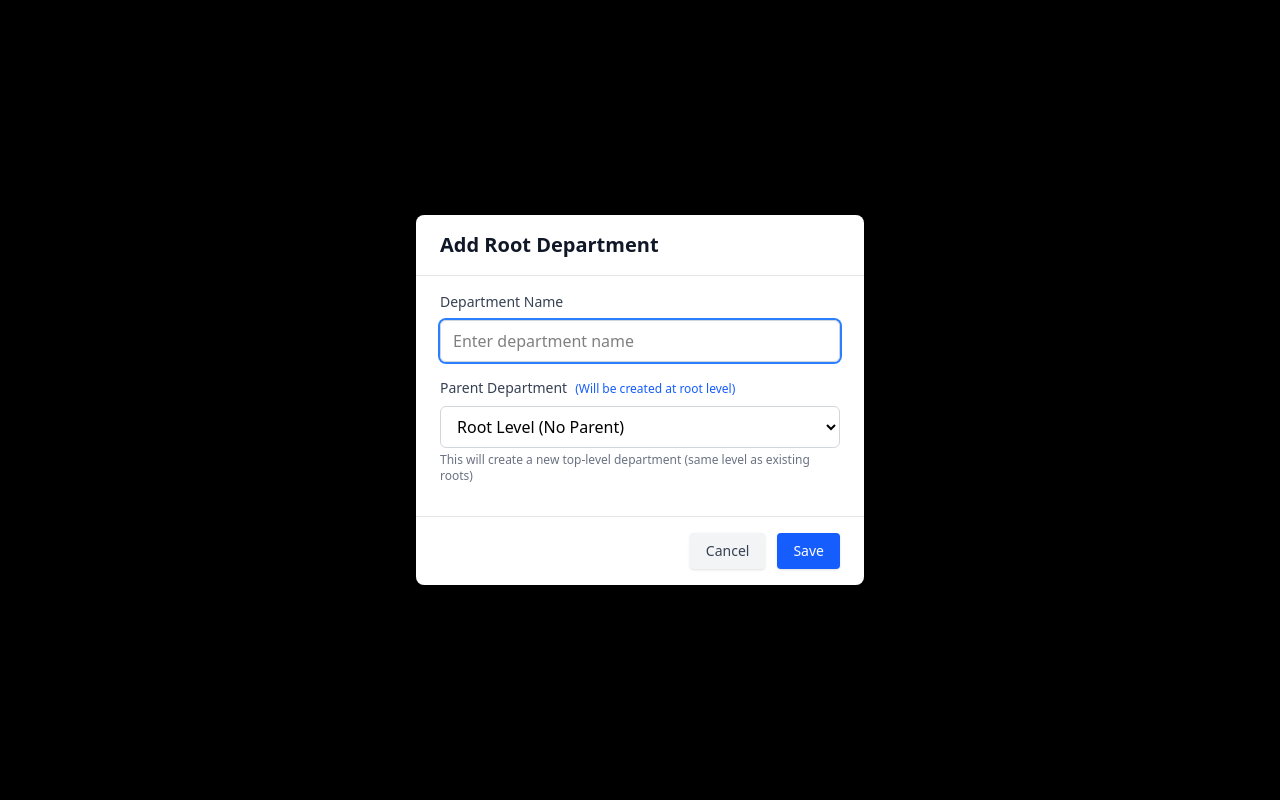
DepartmentManagementModal › validation › should clear error when form is resubmitted with valid data
The width and height of the screenshot is (1280, 800).
# Submit form programmatically to show error
Submit the form named "save", box [416,276,864,585]
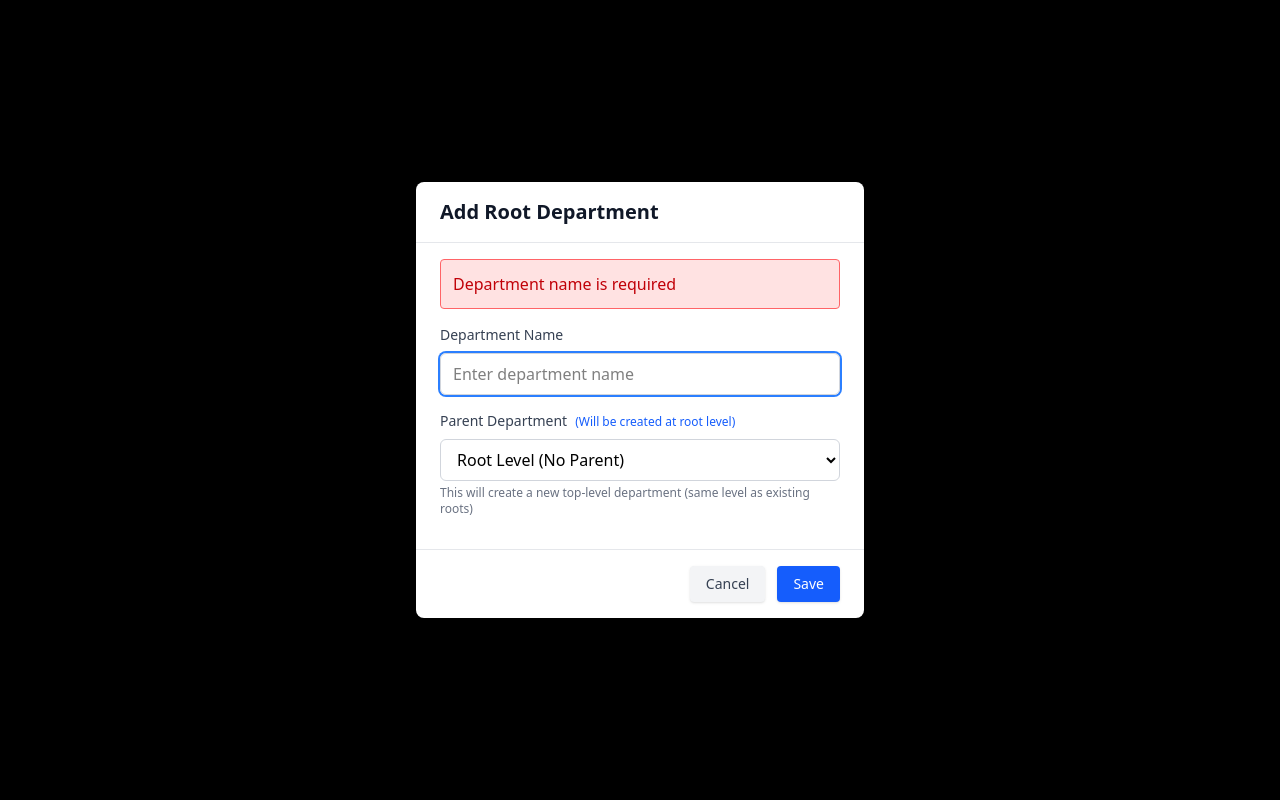
Now the text "Department name is required" is shown, box [440,259,840,309]
# Enter valid name
In the field labelled "Department Name": (640, 374) [440,353,840,395], type "New Name"
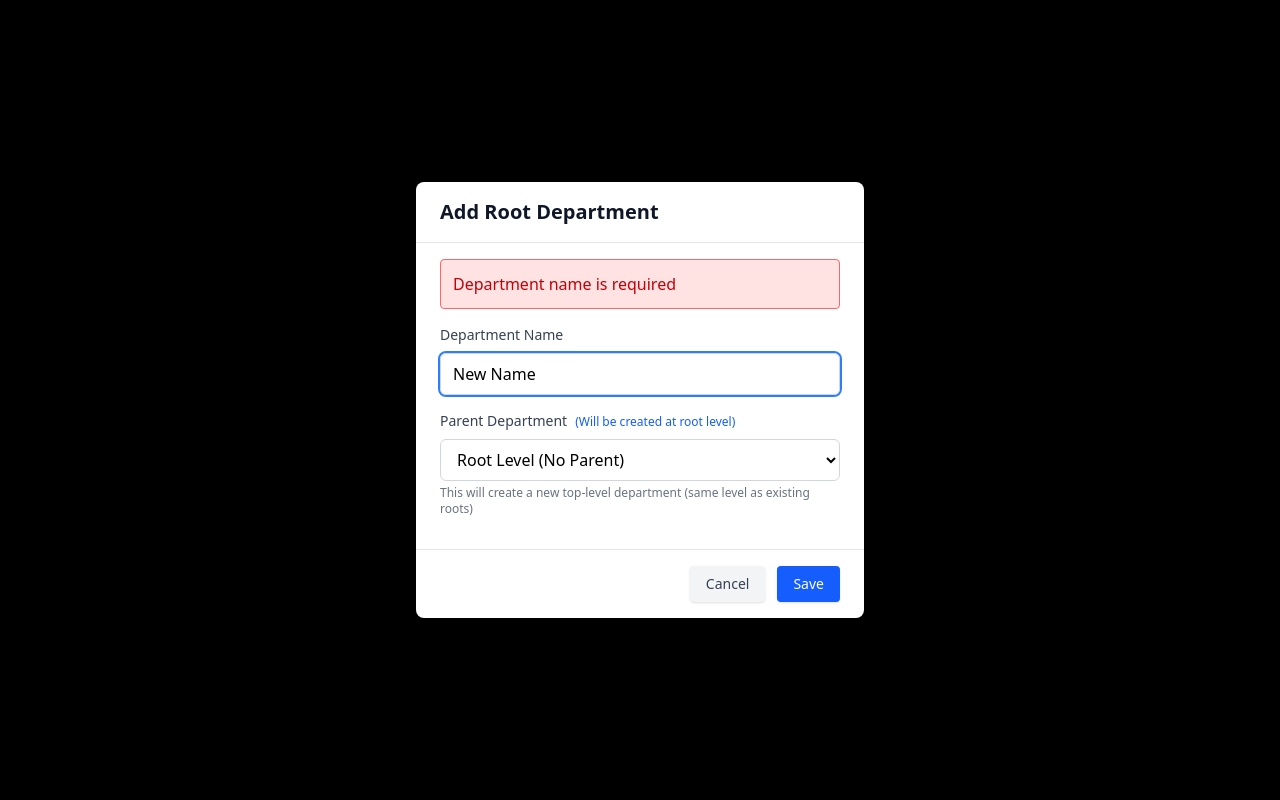
# Submit again - error should clear
Submit the form named "save", box [416,243,864,618]
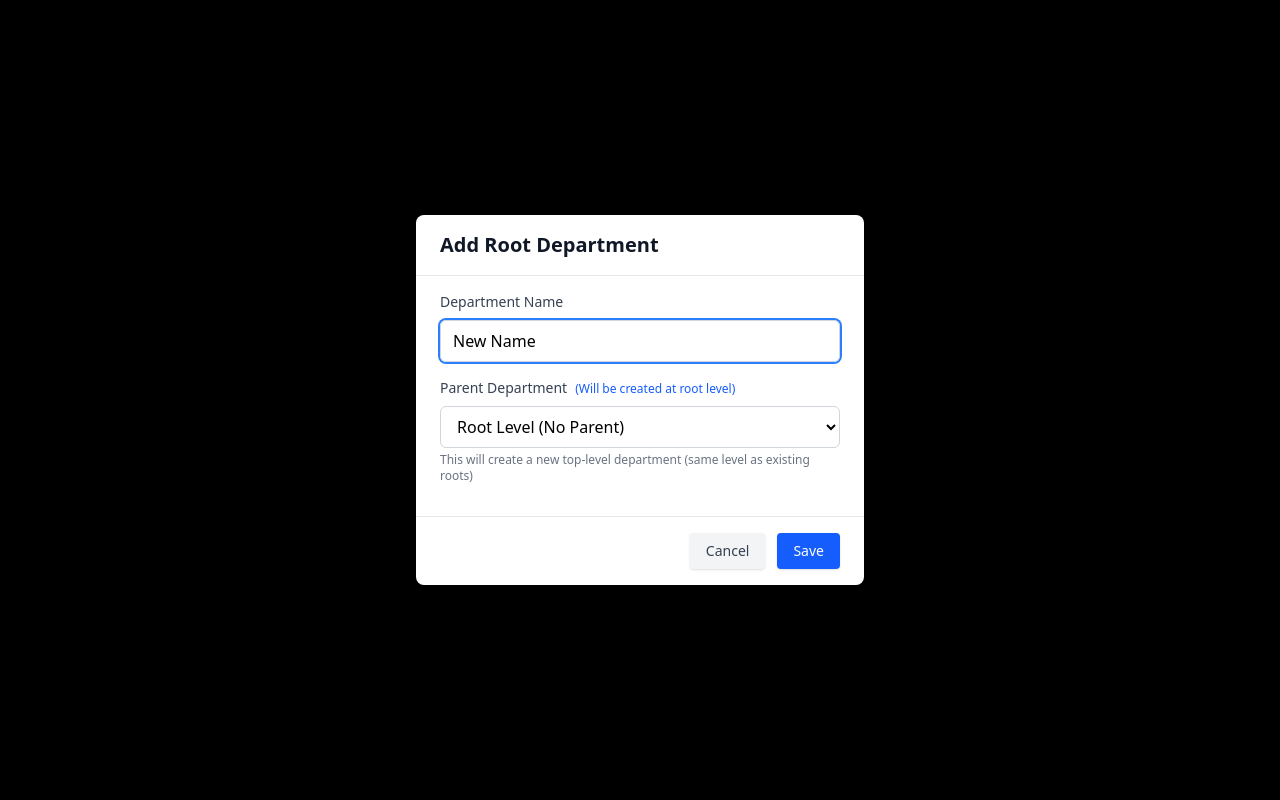
Now the text "Department name is required" is gone
